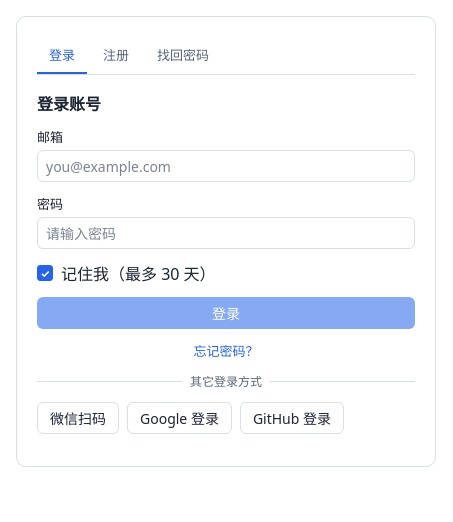
第三方登录闭环（FR-ACC-02/03） › 等待期间可取消：取消后不再显示等待态，也不再重复轮询
What coordinates should you click on to do the following:
click the button "Google 登录"
I would click on:
 (179, 418)
Its box is left=127, top=402, right=232, bottom=434.
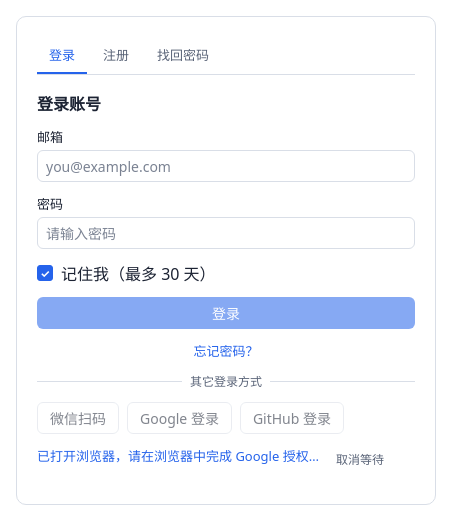
Expected: the text "已打开浏览器，请在浏览器中完成 Google 授权…" is shown, left=37, top=446, right=319, bottom=472
What coordinates should you click on to do the following:
click the button "取消等待"
I would click on:
 (360, 459)
Its box is left=327, top=446, right=393, bottom=472.
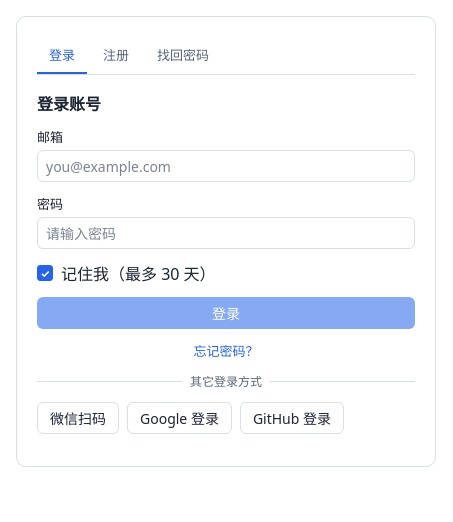
Expected: the text "请在浏览器中完成" is gone
